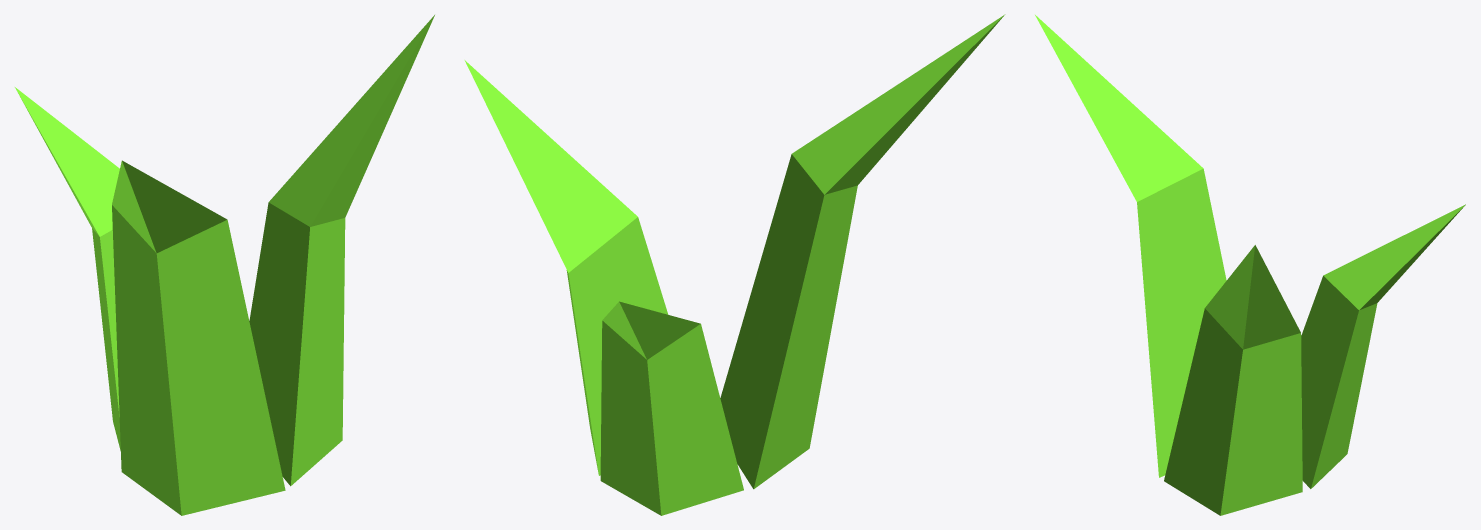
The model's file is 001_Grass_001.fbx.
The picture shows the model from 3 angles, left to right: view 1: azimuth 30°, elevation 25°; view 2: azimuth 150°, elevation 25°; view 3: azimuth 270°, elevation 25°; orthographic projection. The views are drawn at different scales.
Visible parts, largest first — view 1: Grass 001; view 2: Grass 001; view 3: Grass 001.
Part boxes in pixels (box(x1,y1,x2,y2)): Grass 001: box(15, 15, 434, 515); Grass 001: box(464, 14, 1005, 515); Grass 001: box(1035, 15, 1465, 515).
Size of the model in its own units: 34.3 by 32.54 by 34.68.
